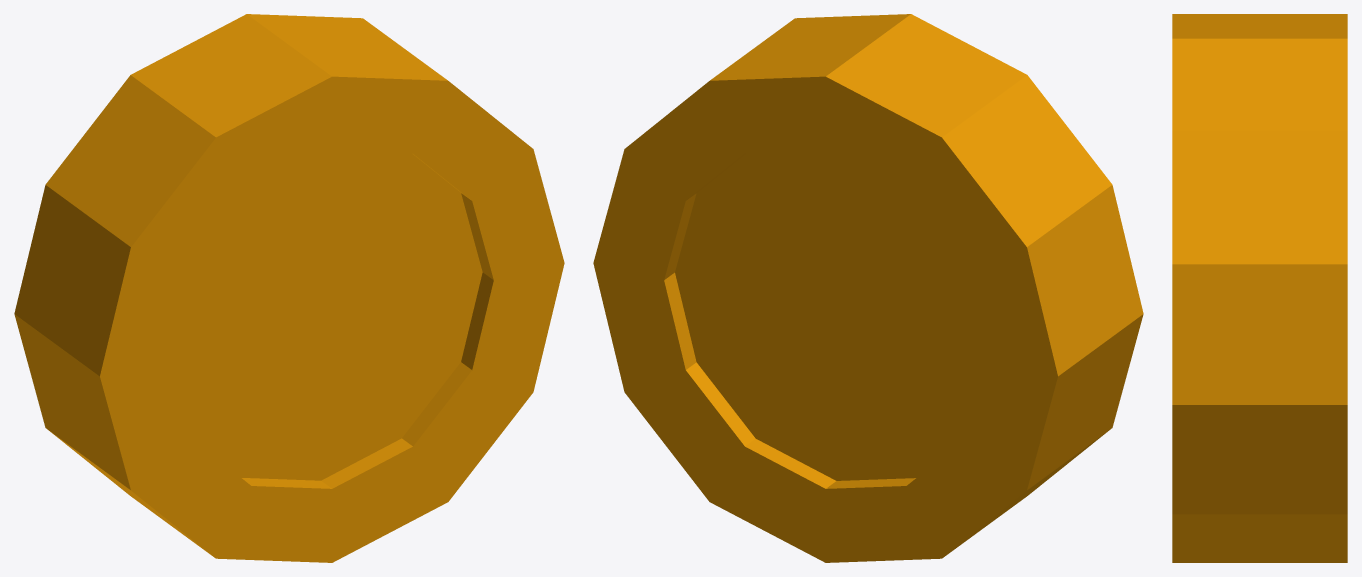
File: coin1.fbx
3 views of the same model, side by side, from view 1: azimuth 30°, elevation 25°; view 2: azimuth 150°, elevation 25°; view 3: azimuth 270°, elevation 25° (orthographic). The views are drawn at different scales.
Visible parts, largest first — view 1: Coin; view 2: Coin; view 3: Coin.
Part boxes in pixels (x1,y1,x2,y2): Coin: (14,14,564,562); Coin: (593,14,1143,562); Coin: (1172,14,1347,562).
Bounding box in the file's own units: 200 × 200 × 63.74.
